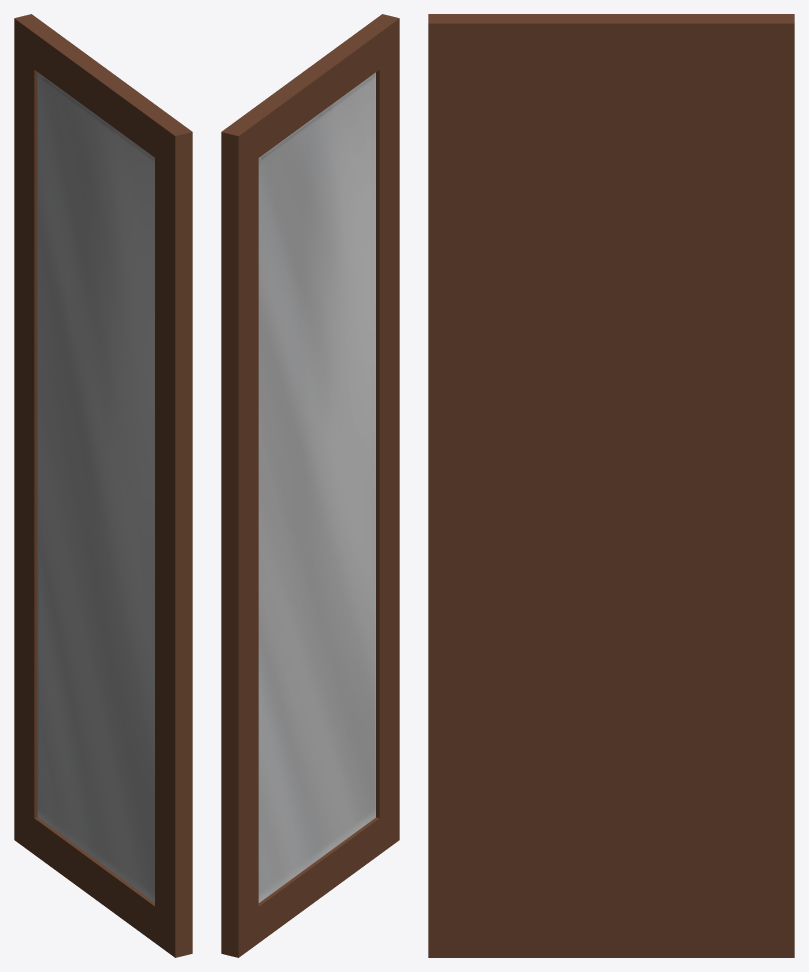
File: Mirror.gltf
The picture shows the model from 3 angles, left to right: view 1: azimuth 30°, elevation 25°; view 2: azimuth 150°, elevation 25°; view 3: azimuth 270°, elevation 25°; orthographic projection. The views are drawn at different scales.
Parts seen in each view (by area): view 1: sweethome3d_window_mirror, 1_1; view 2: sweethome3d_window_mirror, 1_1; view 3: 1_1.
Boxes of the visible parts, x1,y1,x2,y2 form: sweethome3d_window_mirror: [37, 72, 154, 902]; 1_1: [14, 14, 192, 957]; sweethome3d_window_mirror: [258, 72, 375, 902]; 1_1: [221, 14, 399, 957]; 1_1: [428, 14, 794, 957].
Bounding box in the file's own units: 0.04 × 1.8 × 0.64.
2 materials, 1 textured.
